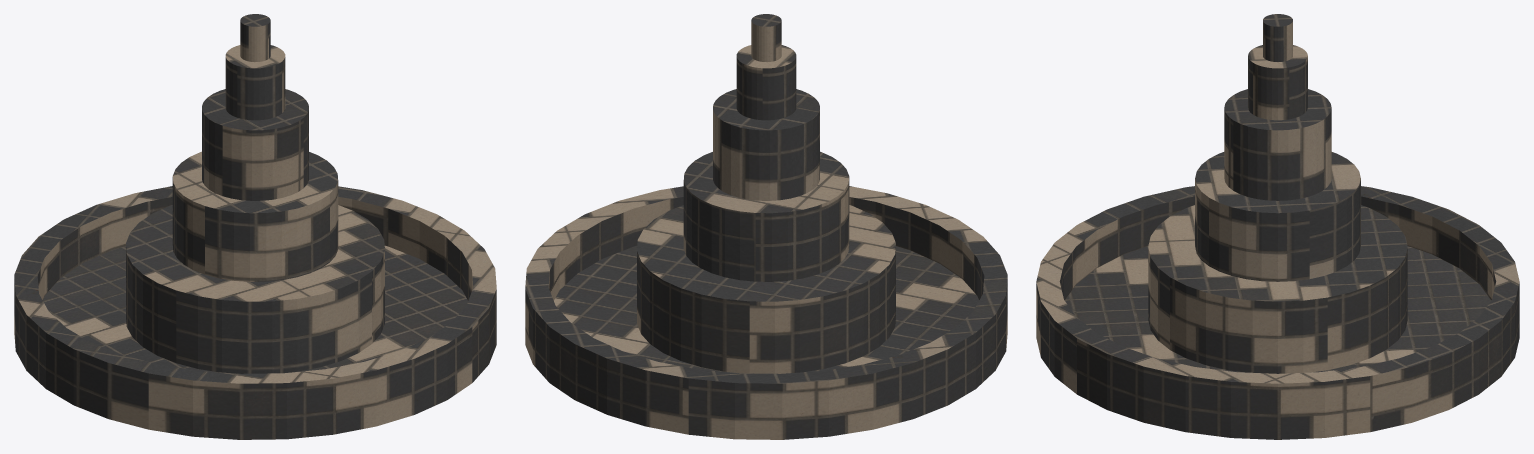
Rendered from Fonte.fbx.
3 renders of one model, left to right at view 1: azimuth 30°, elevation 25°; view 2: azimuth 150°, elevation 25°; view 3: azimuth 270°, elevation 25°, orthographic.
Parts seen in each view (by area): view 1: Fonte; view 2: Fonte; view 3: Fonte.
Part boxes in pixels (bbox=[...]): Fonte: bbox=[14, 14, 496, 439]; Fonte: bbox=[525, 14, 1007, 439]; Fonte: bbox=[1036, 14, 1519, 439].
Size of the model in its own units: 501 by 363 by 501.
1 material, 1 textured.
